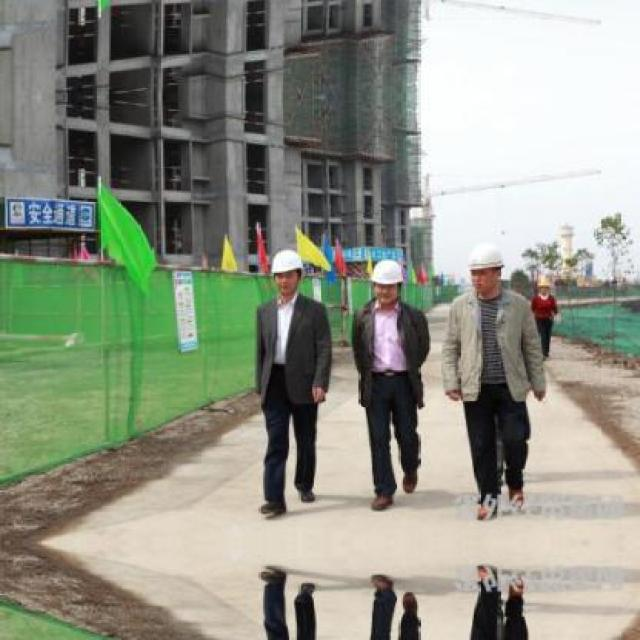helmet: (463, 235, 506, 298), (365, 255, 407, 302), (270, 242, 302, 299), (534, 274, 552, 295)
